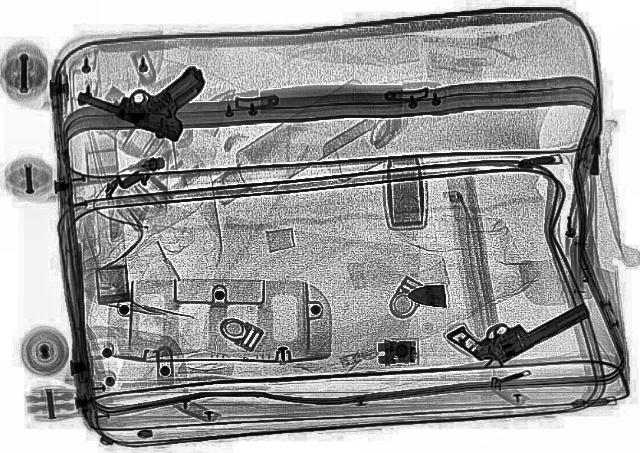Gun: (68, 38, 232, 144), (442, 278, 596, 370)
